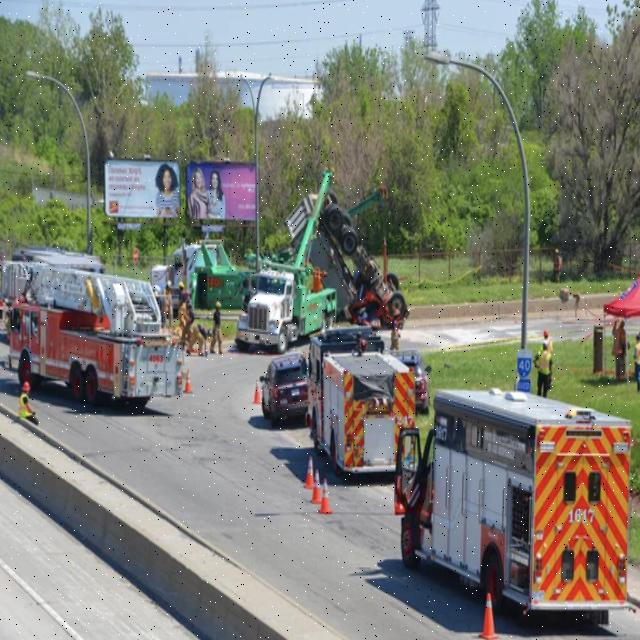severe: (281, 168, 408, 335)
